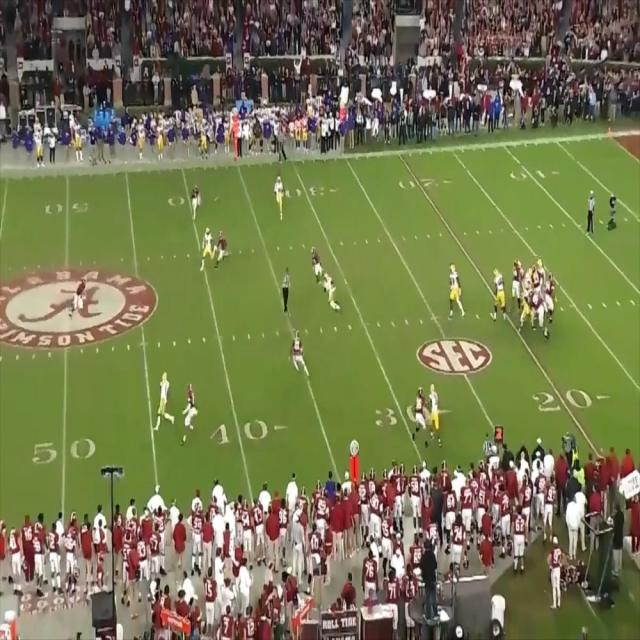db: (413, 386, 427, 446), (69, 277, 87, 318), (185, 383, 196, 441), (292, 332, 307, 373), (311, 248, 323, 281), (191, 180, 199, 222)
lb: (218, 229, 229, 264)
skill: (430, 383, 443, 441), (159, 373, 174, 423), (322, 273, 339, 313), (274, 175, 285, 218), (199, 228, 211, 267)
